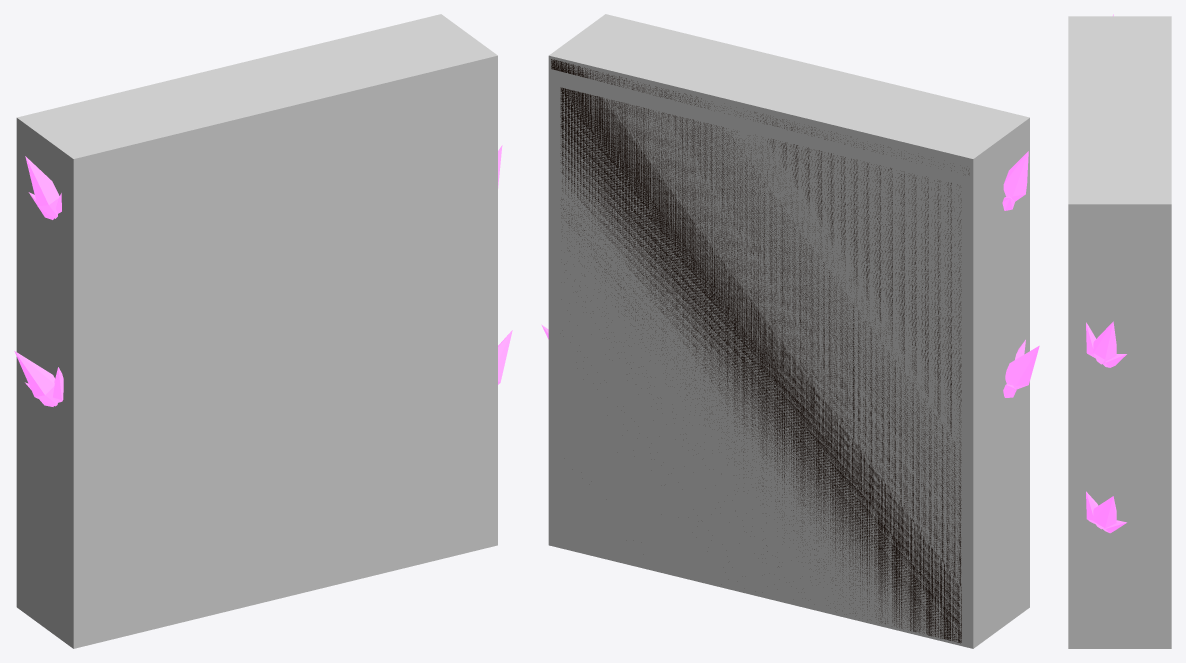
The model's file is Potion_Shelf.fbx.
The picture shows the model from 3 angles, left to right: view 1: azimuth 30°, elevation 25°; view 2: azimuth 150°, elevation 25°; view 3: azimuth 270°, elevation 25°; orthographic projection. The views are drawn at different scales.
Parts seen in each view (by area): view 1: COL_Potion_Shelf_0, Potion_Shelf_Decoration; view 2: COL_Potion_Shelf_0, Potion_Shelf_Body, Potion_Shelf_Decoration; view 3: COL_Potion_Shelf_0, Potion_Shelf_Decoration.
Boxes of the visible parts, x1,y1,x2,y2 form: COL_Potion_Shelf_0: (16,14,497,648); Potion_Shelf_Decoration: (14,145,512,406); COL_Potion_Shelf_0: (548,14,1029,648); Potion_Shelf_Body: (551,59,969,643); Potion_Shelf_Decoration: (541,151,1039,397); COL_Potion_Shelf_0: (1068,16,1171,648); Potion_Shelf_Decoration: (1086,14,1126,533).
Bounding box in the file's own units: 2.7 × 2.54 × 0.5334.
